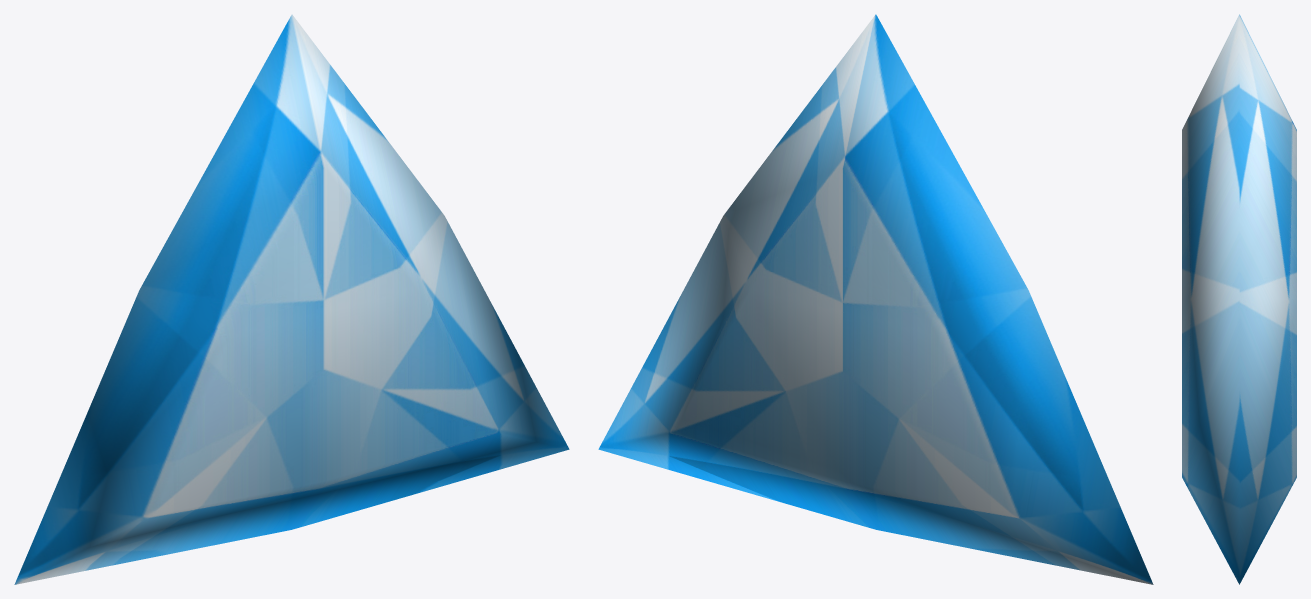
Rendered from Gem-Trilliant.fbx.
3 views of the same model, side by side, from view 1: azimuth 30°, elevation 25°; view 2: azimuth 150°, elevation 25°; view 3: azimuth 270°, elevation 25° (orthographic). The views are drawn at different scales.
Parts seen in each view (by area): view 1: Gem-Trilliant; view 2: Gem-Trilliant; view 3: Gem-Trilliant.
Part boxes in pixels (x1,y1,x2,y2): Gem-Trilliant: (14,14,569,584); Gem-Trilliant: (598,14,1153,584); Gem-Trilliant: (1182,14,1296,584).
Size of the model in its own units: 2.18 by 1.93 by 0.4361.
